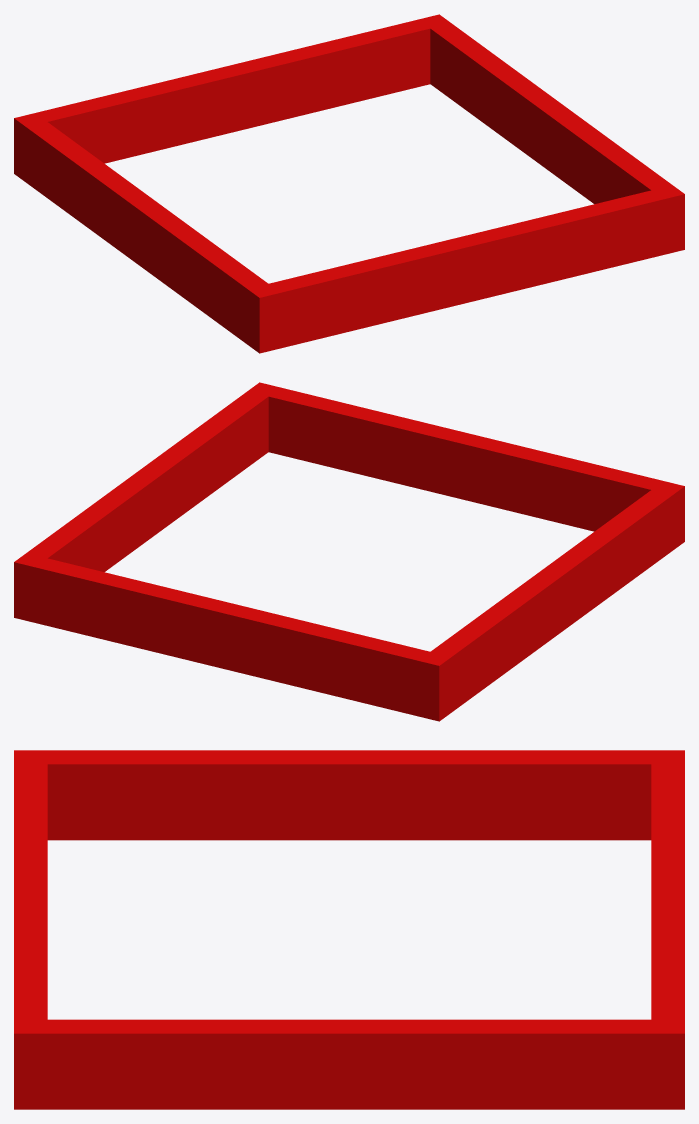
The model's file is RedBigFrame.fbx.
The picture shows the model from 3 angles, top to bottom: view 1: azimuth 30°, elevation 25°; view 2: azimuth 150°, elevation 25°; view 3: azimuth 270°, elevation 25°; orthographic projection. The views are drawn at different scales.
Parts seen in each view (by area): view 1: polySurface1; view 2: polySurface1; view 3: polySurface1.
Part boxes in pixels (x1=…): polySurface1: x1=14, y1=14, x2=684, y2=353; polySurface1: x1=14, y1=382, x2=684, y2=721; polySurface1: x1=14, y1=750, x2=684, y2=1109.
Size of the model in its own units: 2 by 0.25 by 2.
